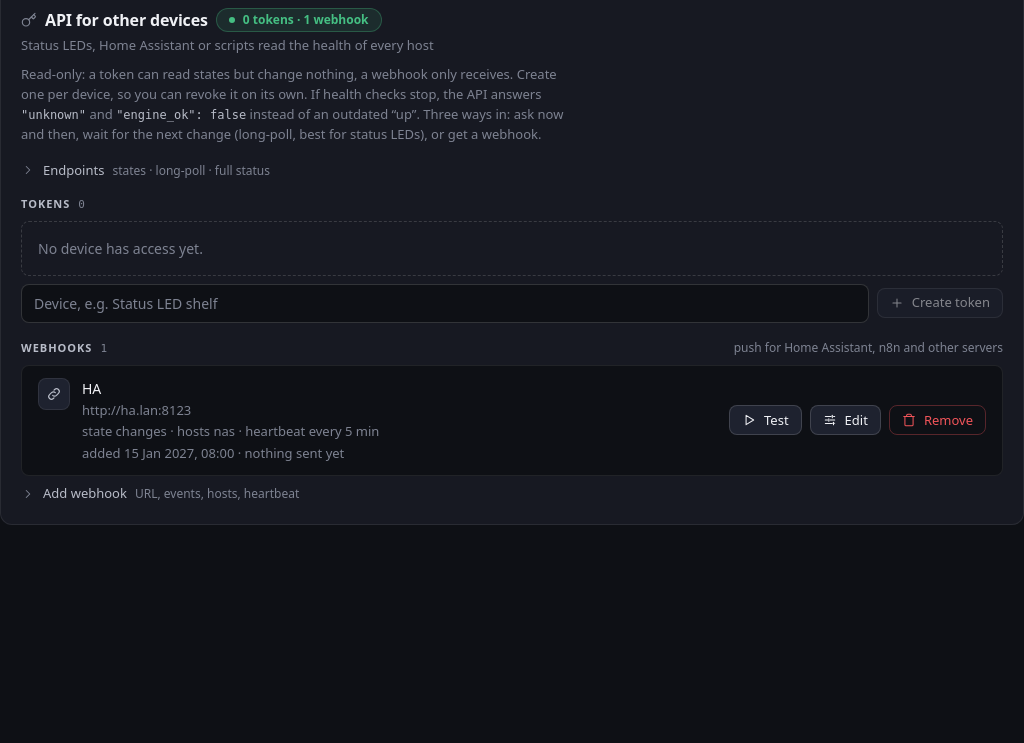
HealthApiSettings › edits a webhook’s filters without asking for the URL again
Click the button "Edit" at (845, 420), box [810,405,881,435]
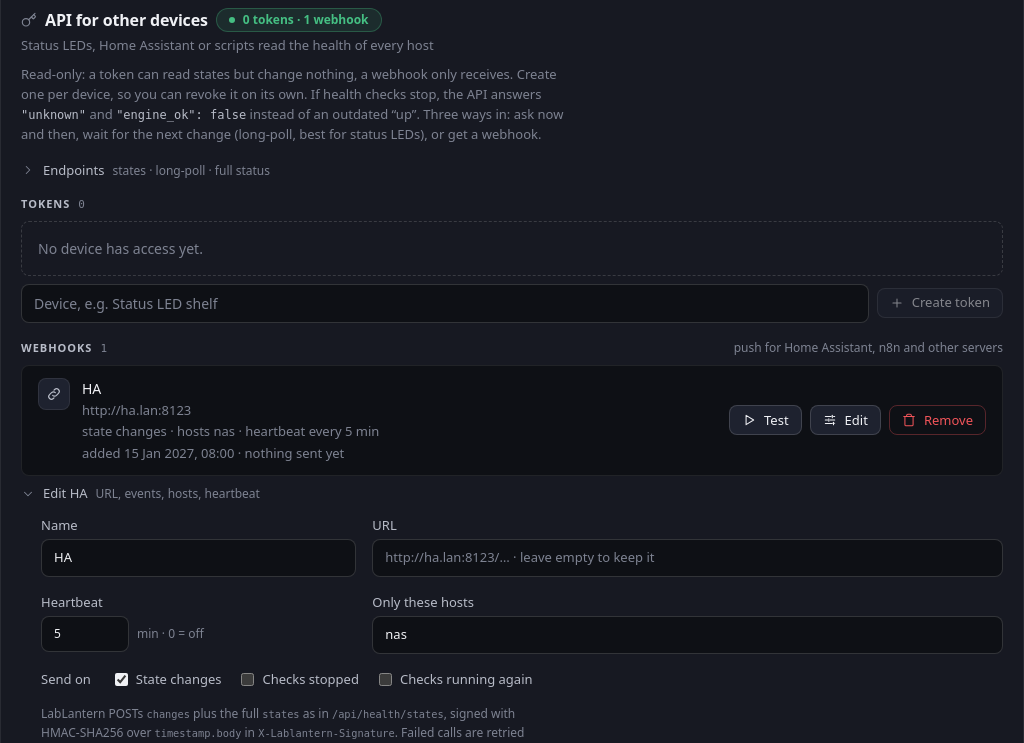
Expected: the field named "Only these hosts" holds "nas"
Replace the text in the field named "Only these hosts" with "nas, pve" at (688, 635), box [372,616,1003,654]
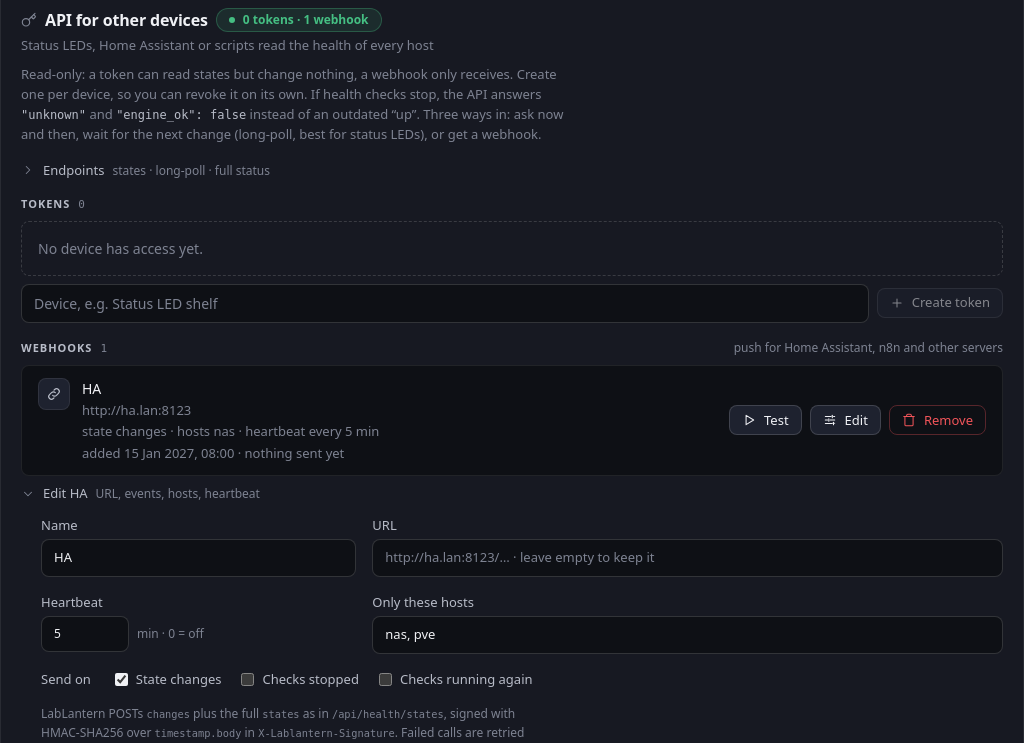
Click the checkbox labelled "Checks stopped" at (248, 679), box [242,673,254,686]
(page scrolled)
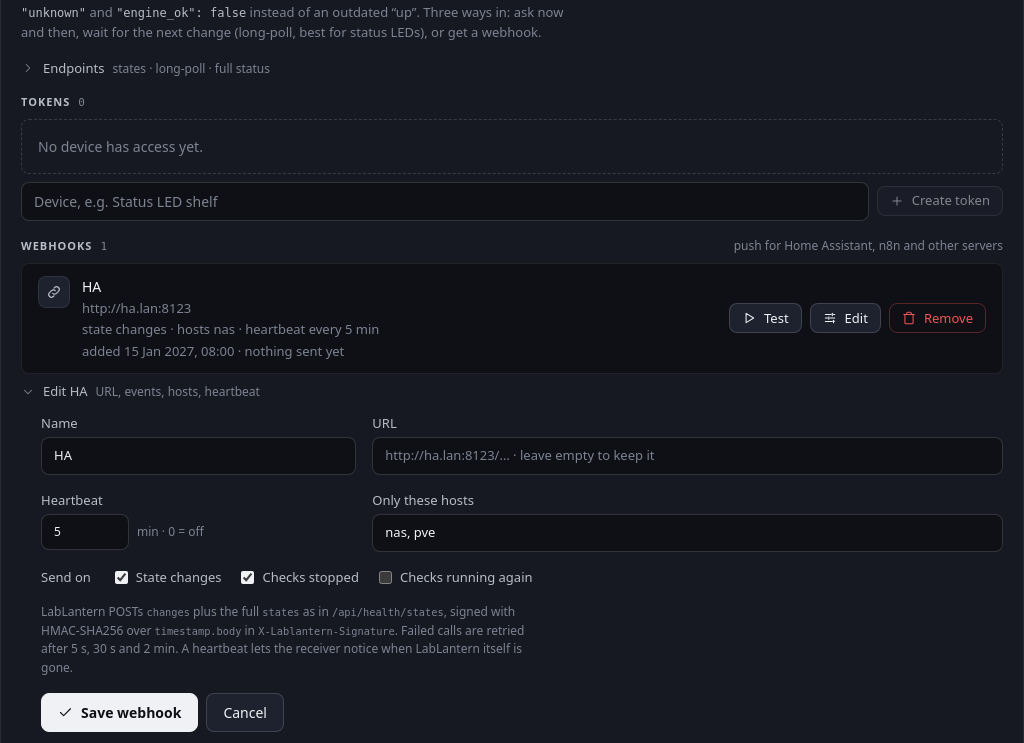
Submit the form with class "hook-form", box [41,414,1003,732]
(page scrolled)
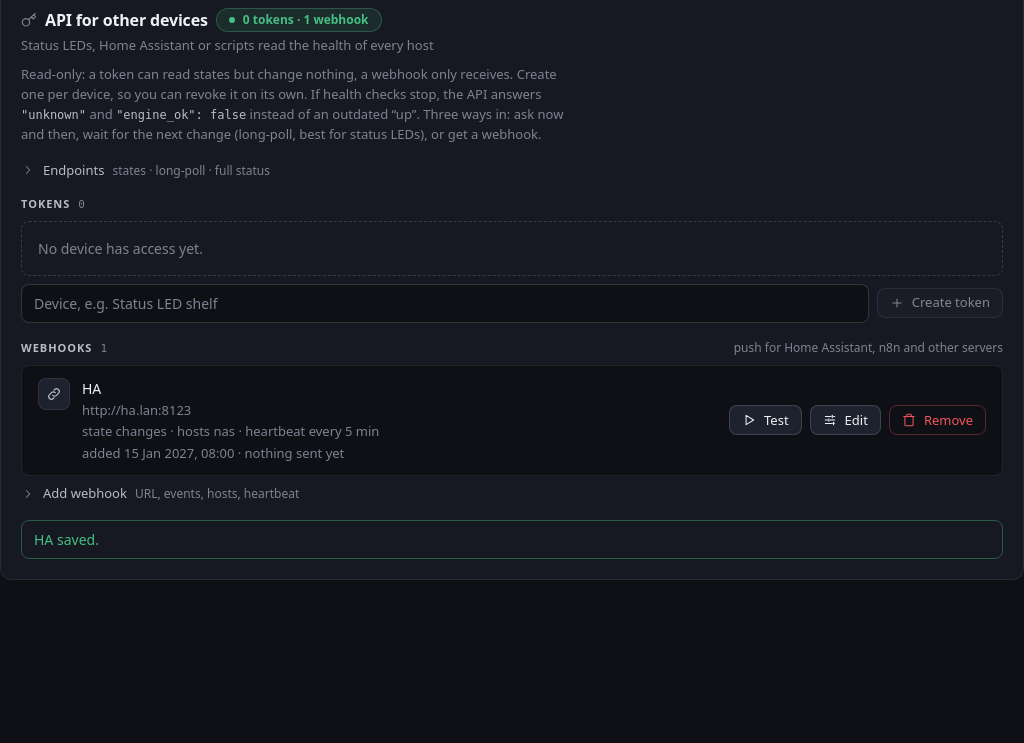
Expected: the text "HA saved." is shown, [21,520,1003,558]
